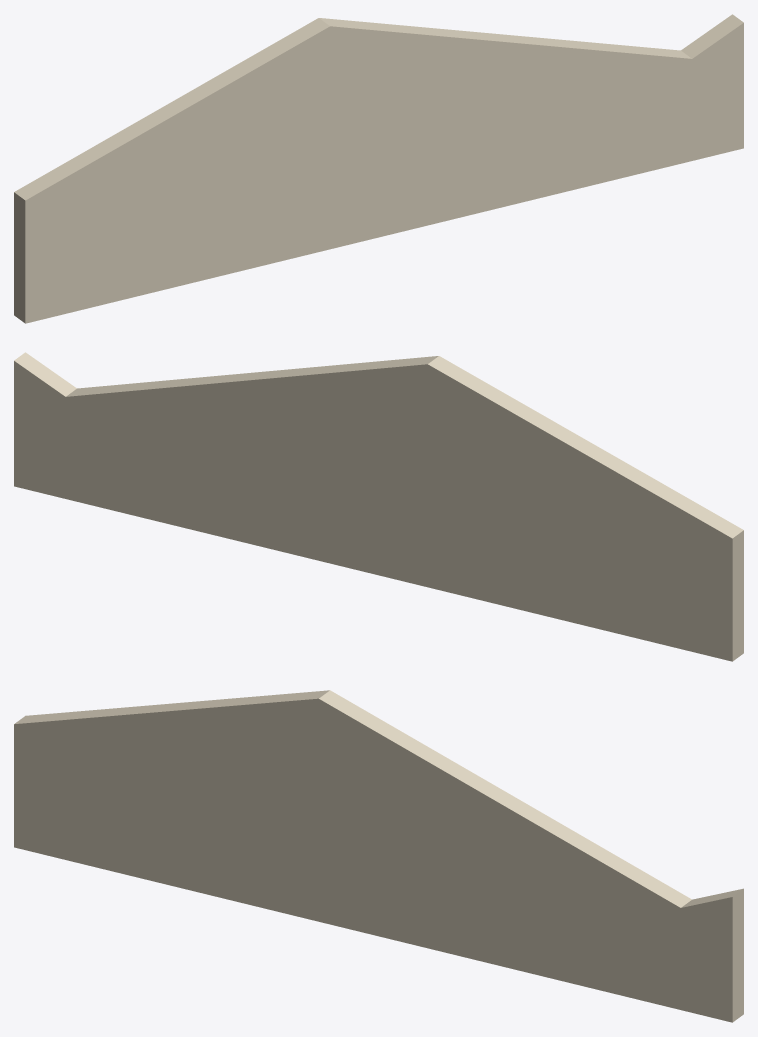
The picture shows the model from 3 angles, top to bottom: view 1: azimuth 30°, elevation 25°; view 2: azimuth 150°, elevation 25°; view 3: azimuth 330°, elevation 25°; orthographic projection.
Visible parts, largest first — view 1: A-ROOF-INFILL-09; view 2: A-ROOF-INFILL-09; view 3: A-ROOF-INFILL-09.
Boxes of the visible parts, <box> form: A-ROOF-INFILL-09: <box>14,14,743,323</box>; A-ROOF-INFILL-09: <box>14,352,743,661</box>; A-ROOF-INFILL-09: <box>14,690,743,1022</box>.
Bounding box in the file's own units: 5.78 × 1.72 × 0.16.
